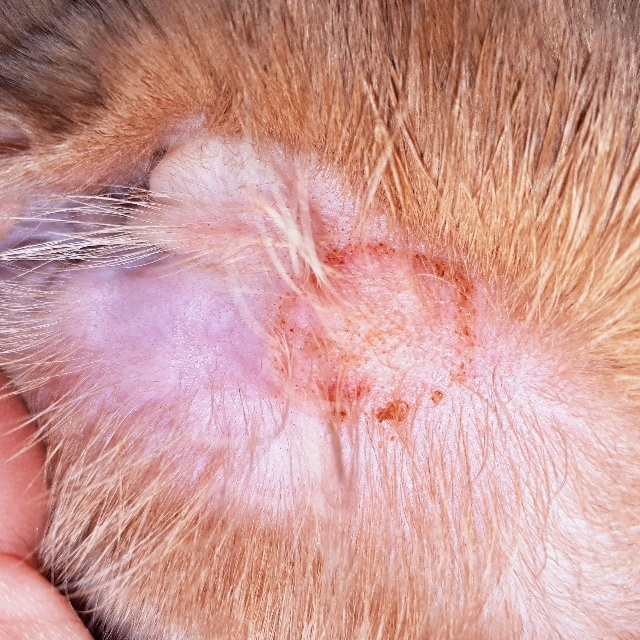ringworm: (260, 242, 481, 417)
